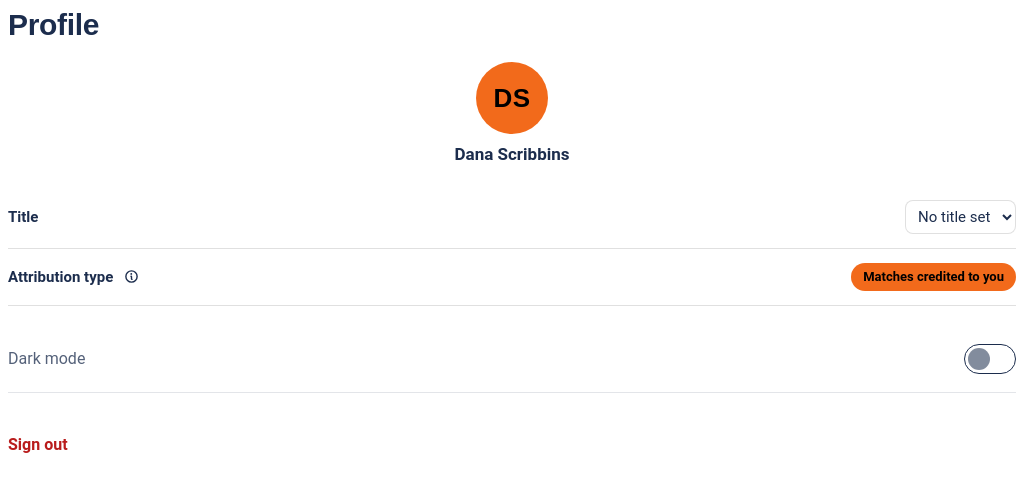
Canvass-8 — the title control (A28), the only write on the rep surface › a network throw is reported and does not leave the control stuck
Select "7" in the dropdown named "Title" at x=960, y=217, box [905,200,1016,234]
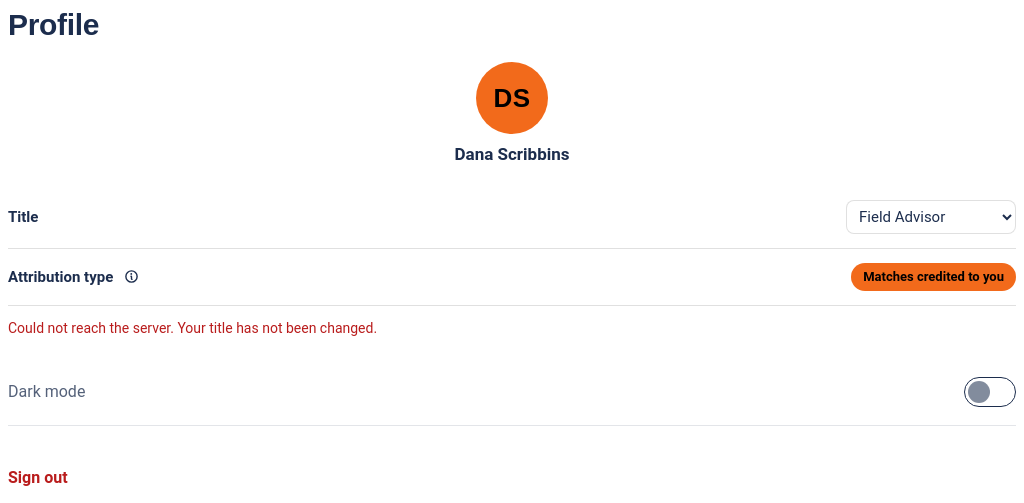
expect the dropdown named "Title" is enabled: met, box [846,200,1016,234]
expect the message "Could not reach the server. Your title has not been changed." is shown: met, box [8,320,377,336]
